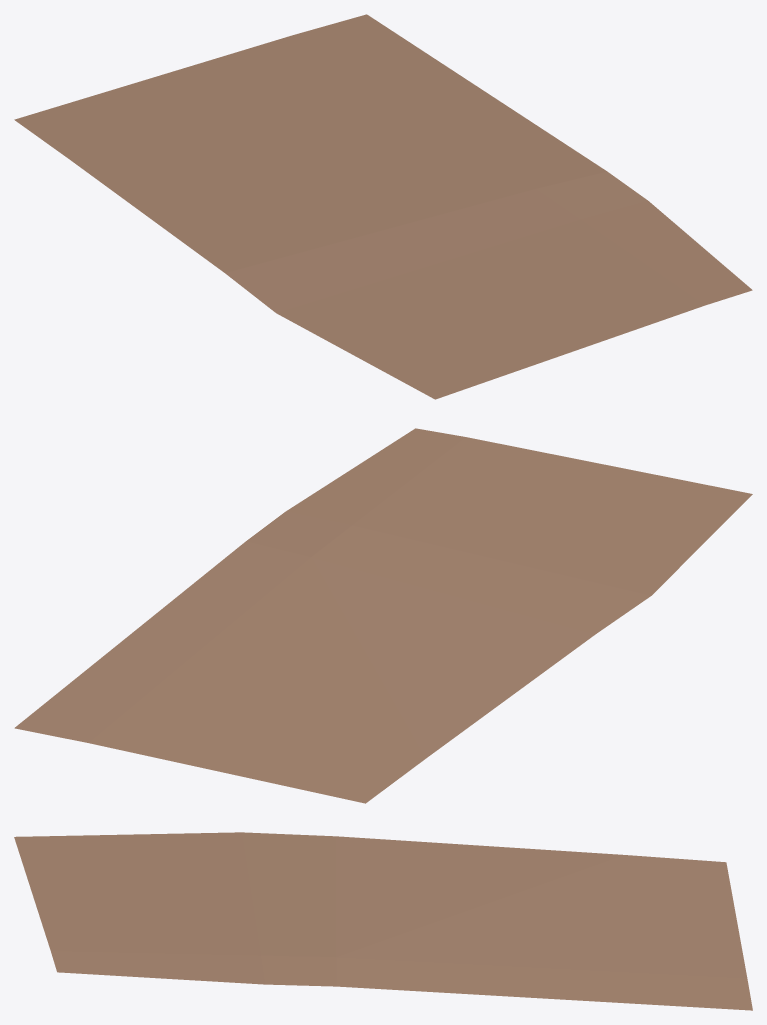
File: farm_25_34_soil.glb
The picture shows the model from 3 angles, top to bottom: view 1: azimuth 30°, elevation 25°; view 2: azimuth 150°, elevation 25°; view 3: azimuth 270°, elevation 25°; orthographic projection. The views are drawn at different scales.
Visible parts, largest first — view 1: geometry_0; view 2: geometry_0; view 3: geometry_0.
Boxes of the visible parts, bbox=[...] form: geometry_0: bbox=[14, 14, 752, 399]; geometry_0: bbox=[14, 428, 752, 803]; geometry_0: bbox=[14, 832, 752, 1010].
Bounding box in the file's own units: 43.93 × 3.9 × 84.63.
